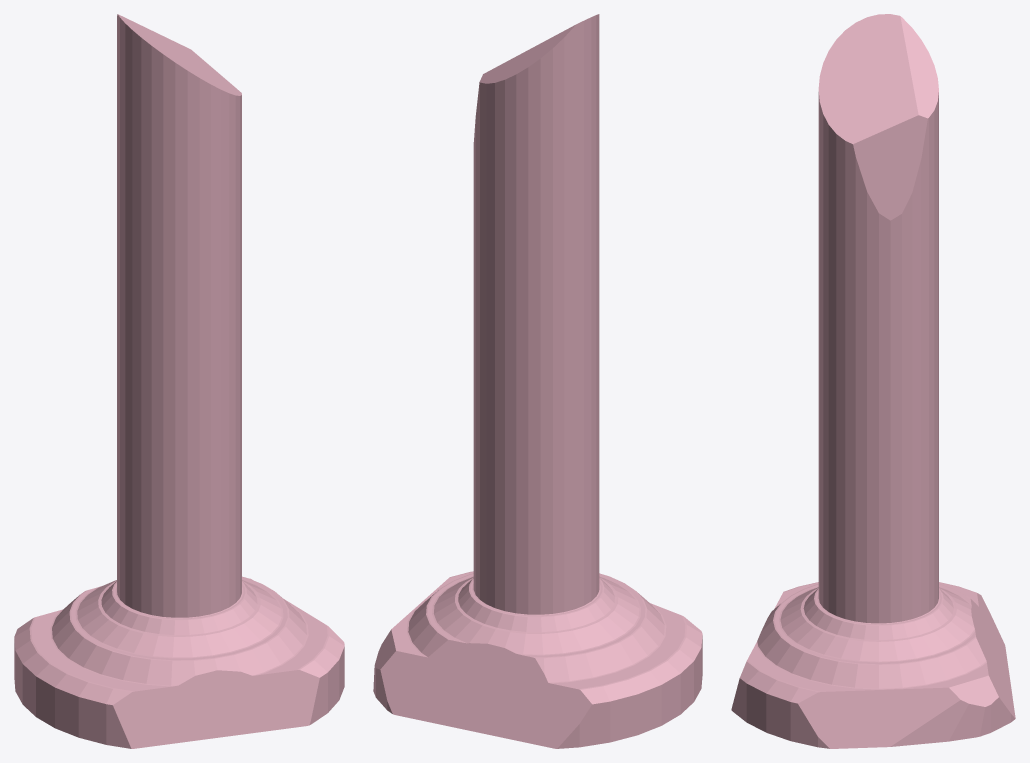
The model's file is Column_7.fbx.
3 renders of one model, left to right at view 1: azimuth 30°, elevation 25°; view 2: azimuth 150°, elevation 25°; view 3: azimuth 270°, elevation 25°, orthographic. The views are drawn at different scales.
Parts seen in each view (by area): view 1: Cylinder.027; view 2: Cylinder.027; view 3: Cylinder.027.
Boxes of the visible parts, x1,y1,x2,y2 form: Cylinder.027: (14,14,344,748); Cylinder.027: (373,14,702,748); Cylinder.027: (731,14,1015,748).
Size of the model in its own units: 109 by 252 by 100.
